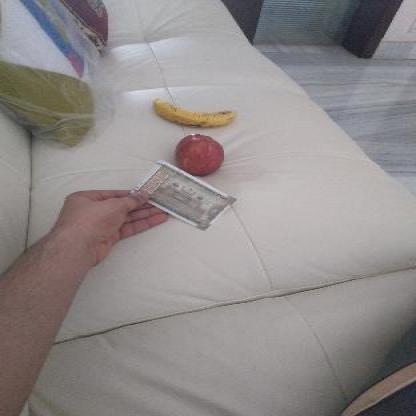New500Back: (135, 158, 238, 233)
